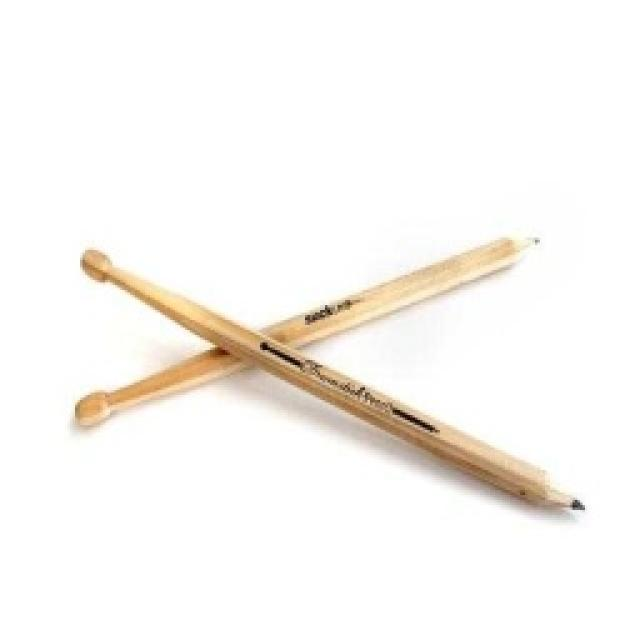pencil: (70, 228, 588, 518)
